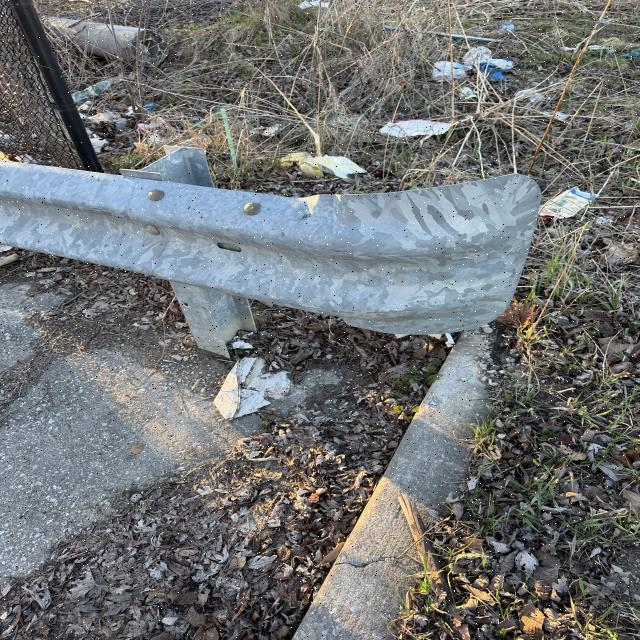Guard rail: (4, 158, 515, 326)
